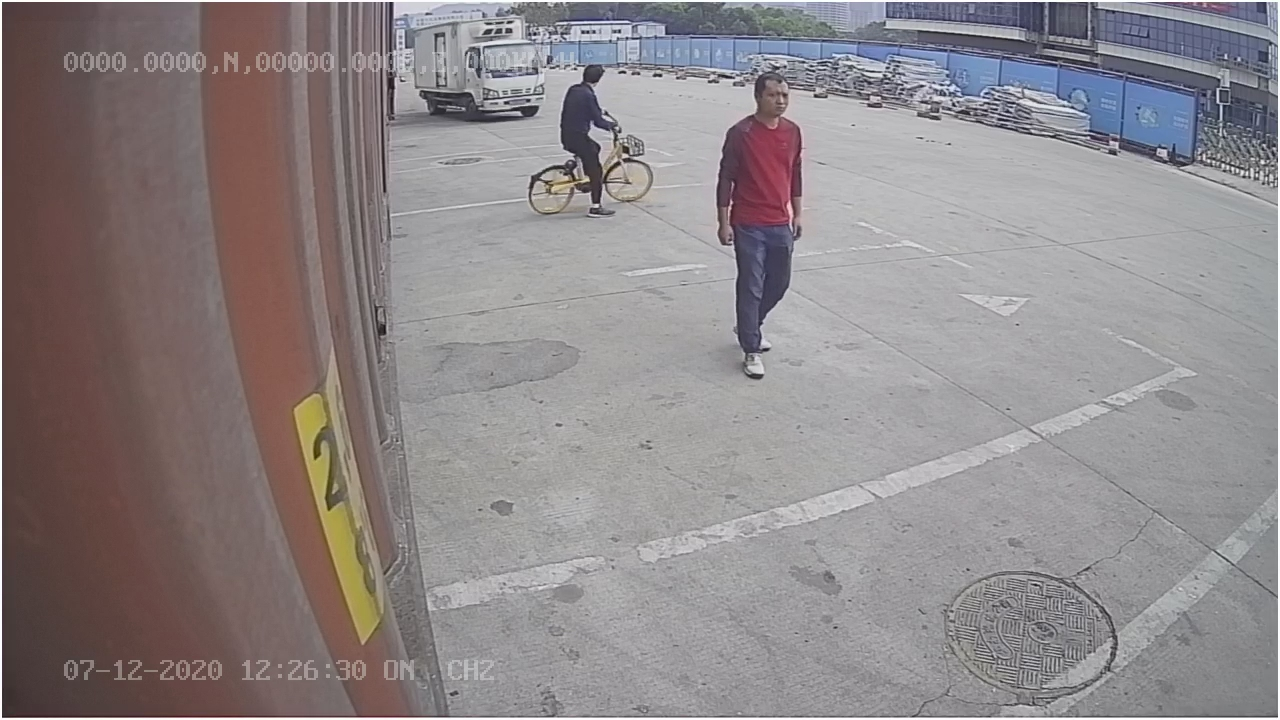person: (709, 65, 814, 382)
